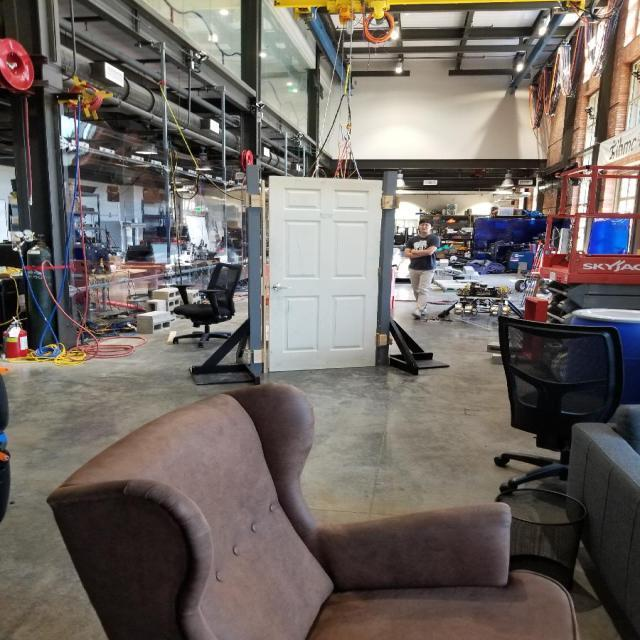door: (264, 174, 384, 374), (268, 283, 292, 295)
